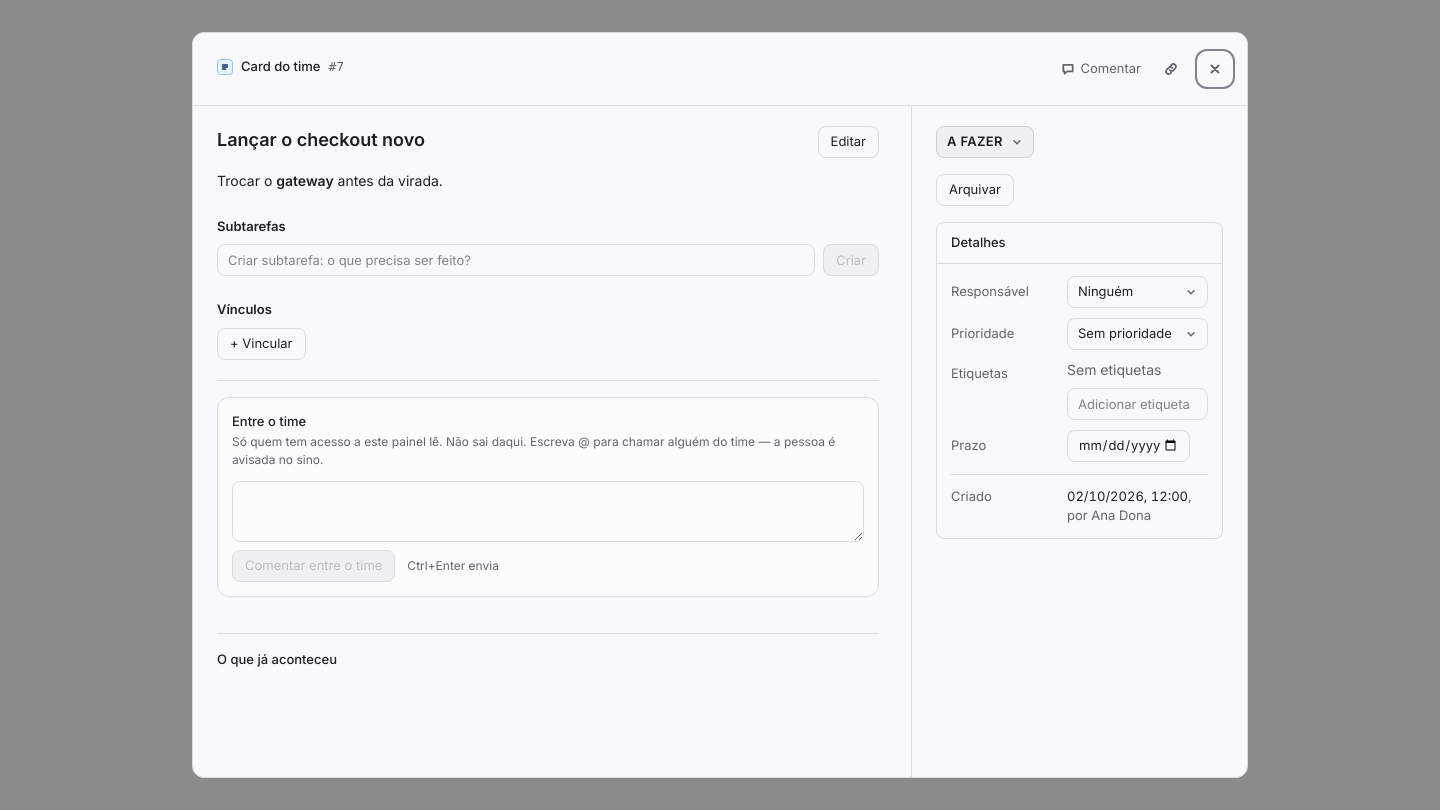
editar o card do time no lugar › "Editar" fica ao lado do titulo; editar deixa os campos a vista, e o Enter no titulo salva com a base
The width and height of the screenshot is (1440, 810).
Click the button "Editar" at (848, 142), box [818, 126, 879, 158]
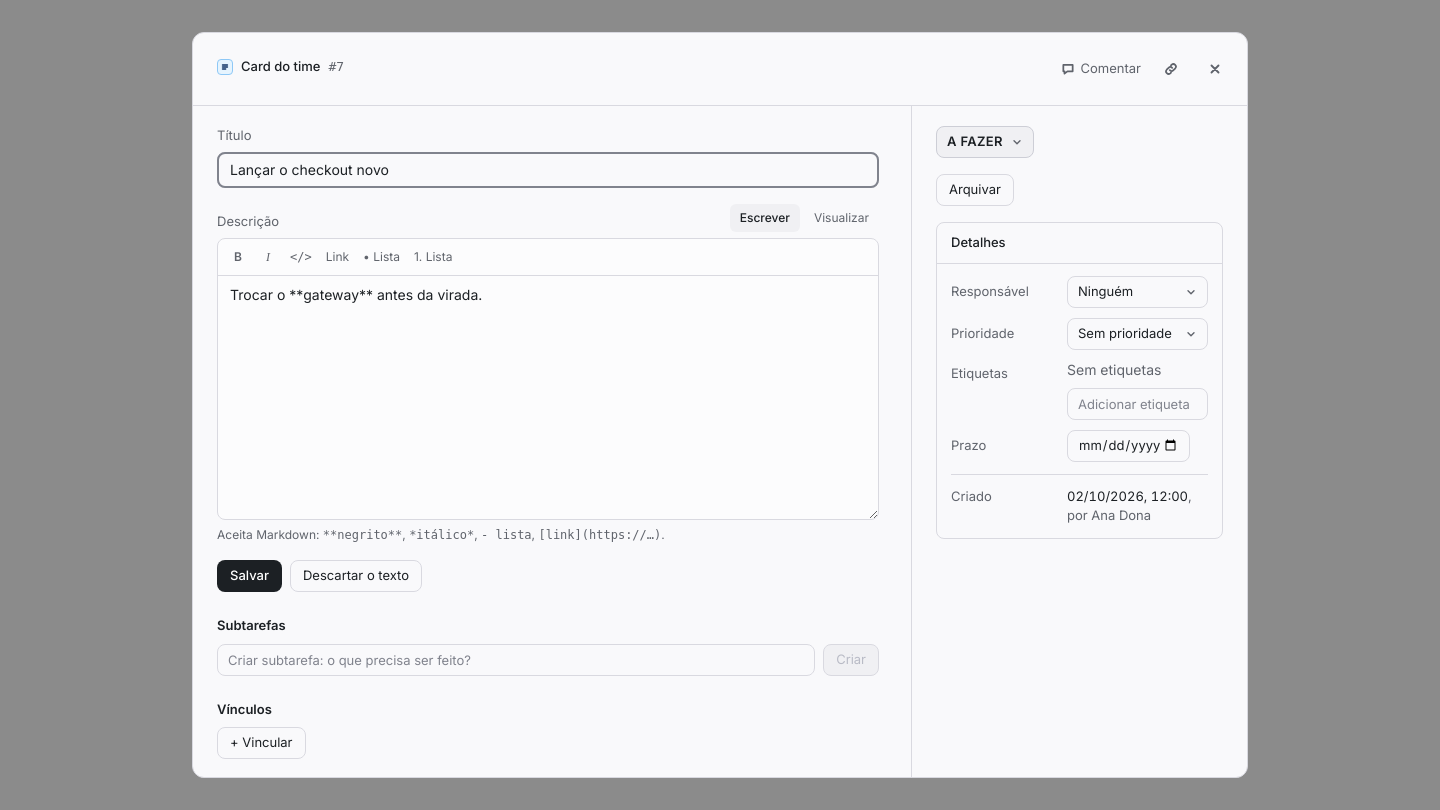
expect the element named "Campos do card" is shown: met, box [951, 276, 1208, 462]
expect the button "Descartar o texto" is shown: met, box [290, 560, 422, 592]
Replace the text in the field labelled "Título" with "Lançar o checkout novo em outubro" at (548, 170), box [217, 152, 879, 188]
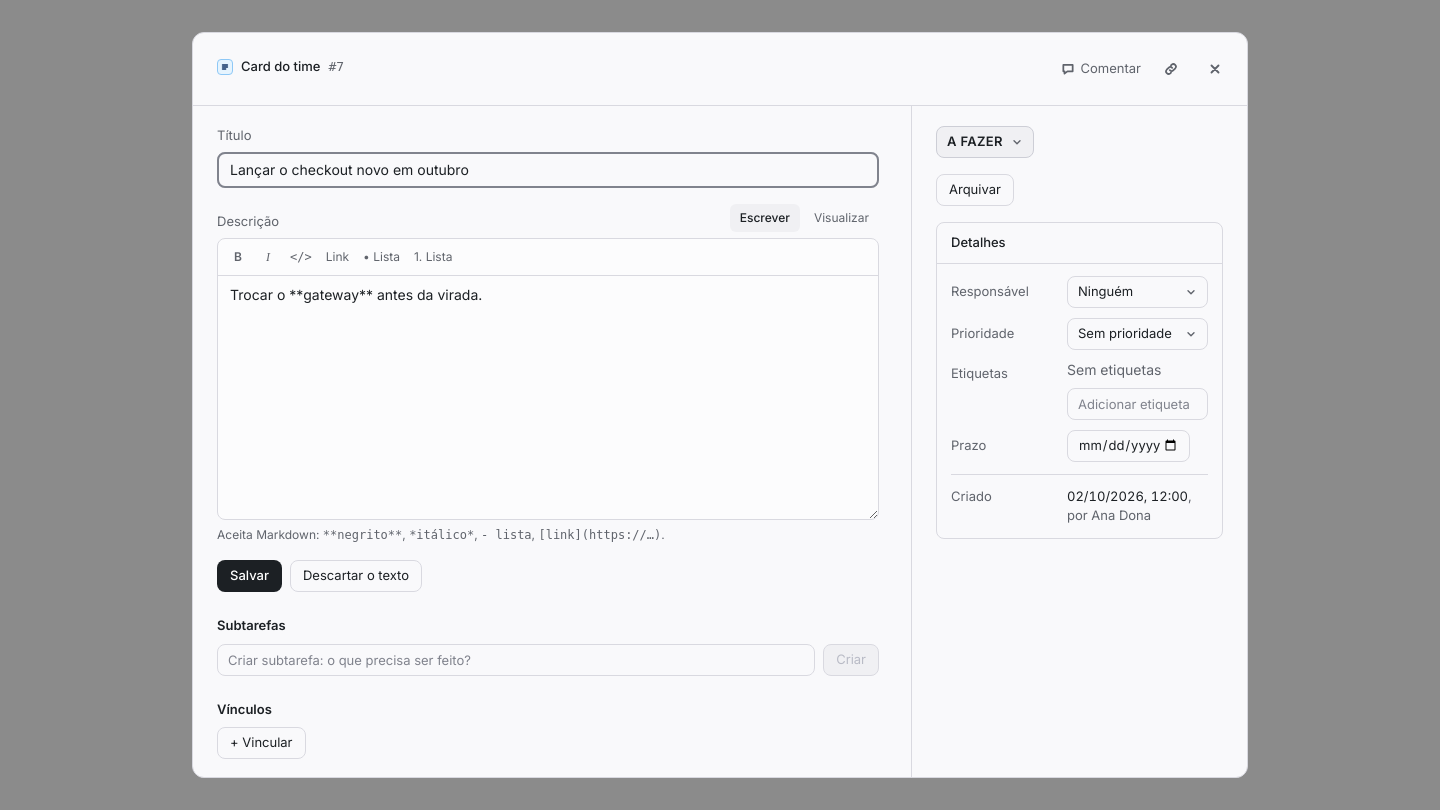
Press Enter in the field labelled "Título", box [217, 152, 879, 188]
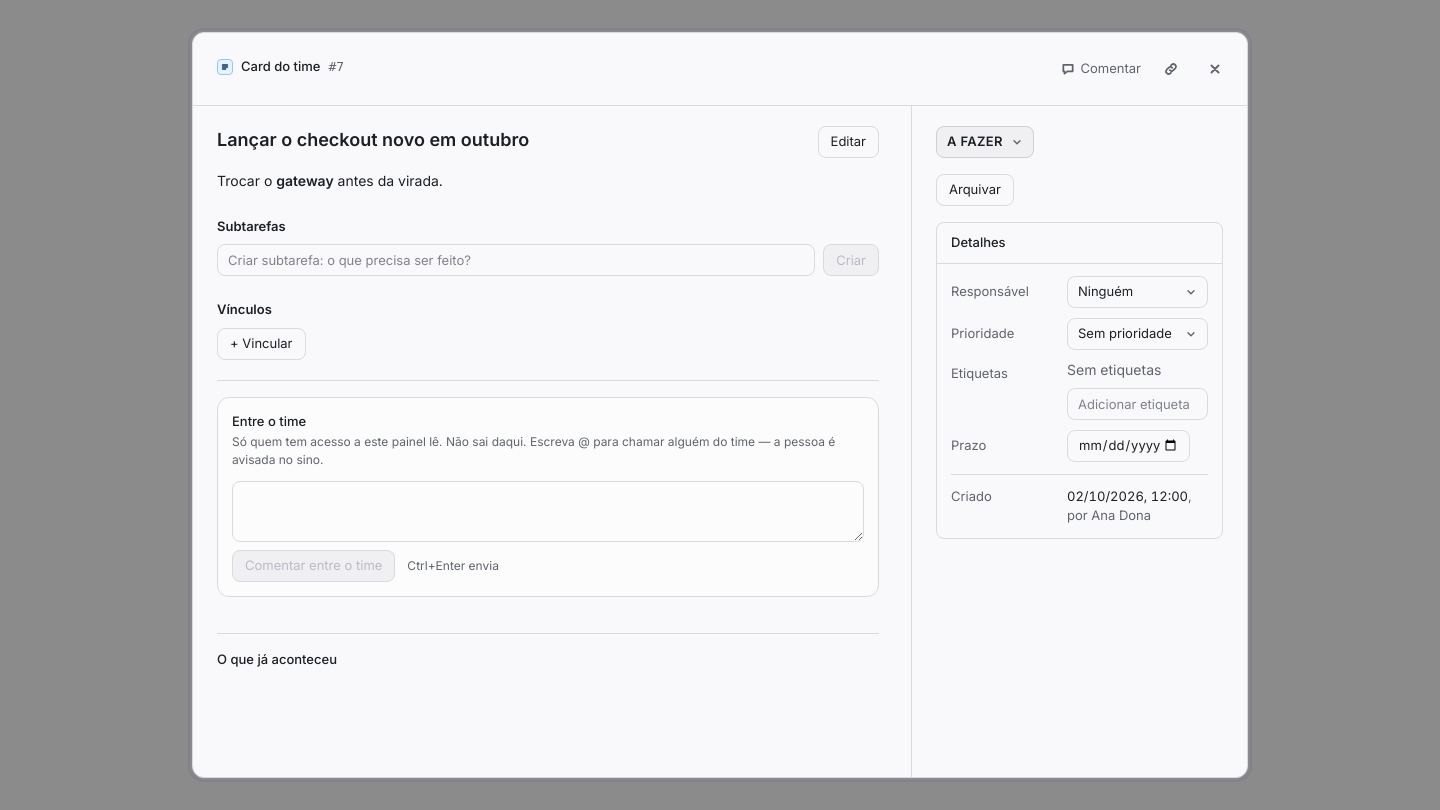
expect the heading "Lançar o checkout novo em outubro" is shown: met, box [217, 126, 529, 154]
